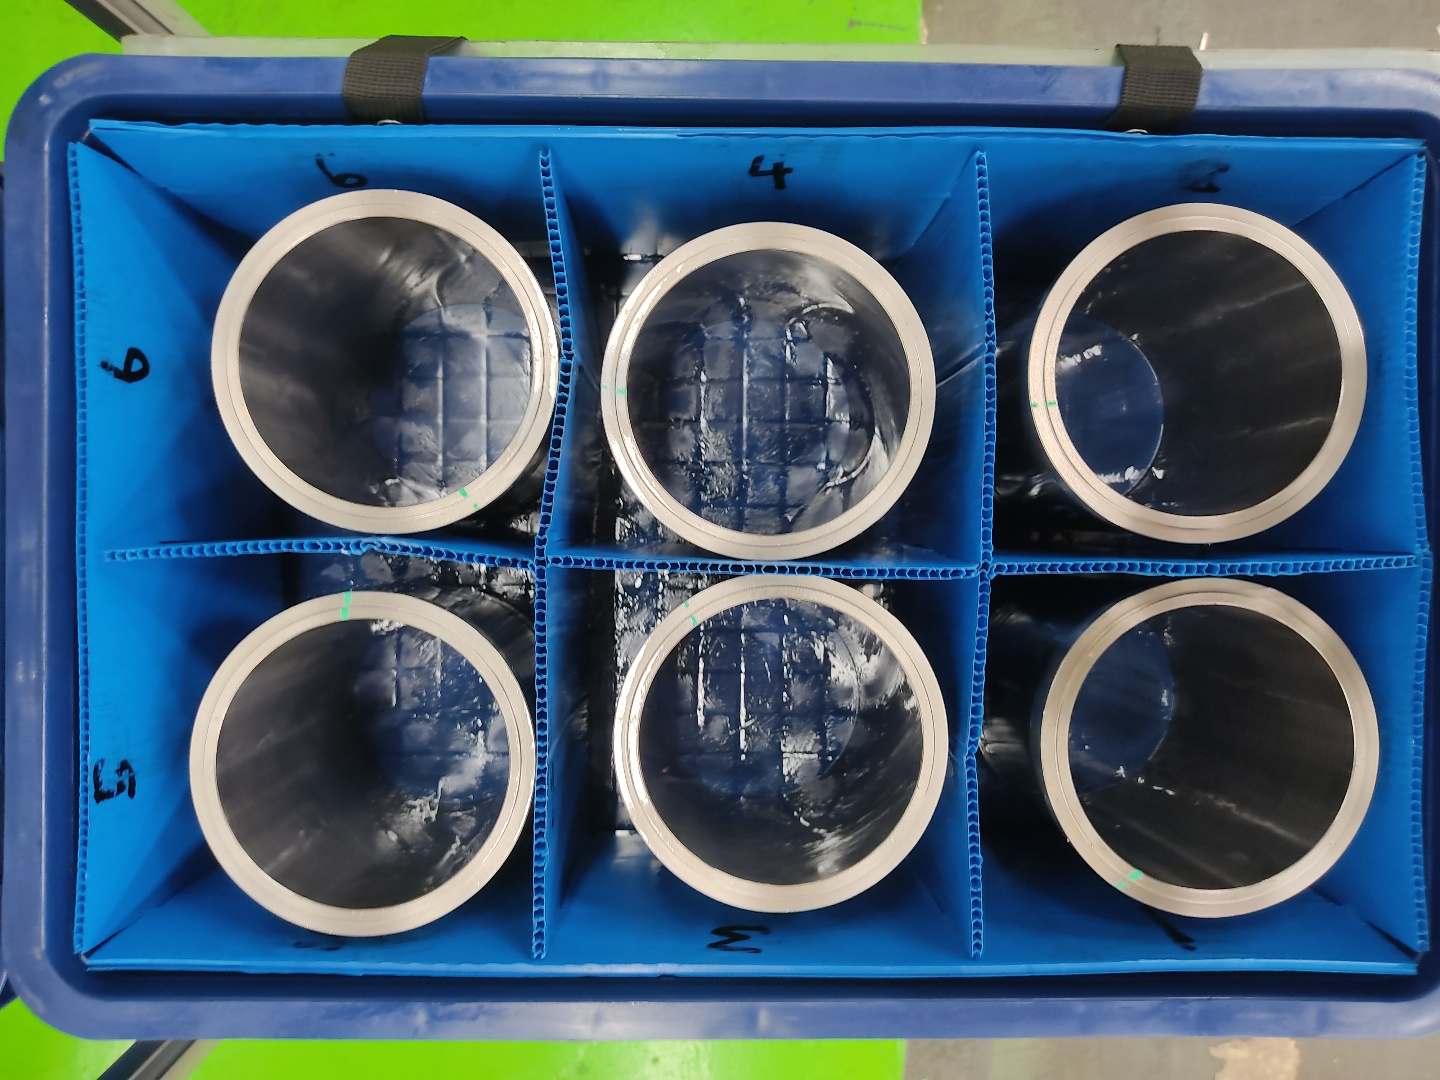cylinder: (206, 185, 564, 538), (184, 589, 537, 940), (1023, 199, 1370, 550), (1036, 576, 1387, 922), (609, 569, 955, 918), (595, 216, 939, 563)
